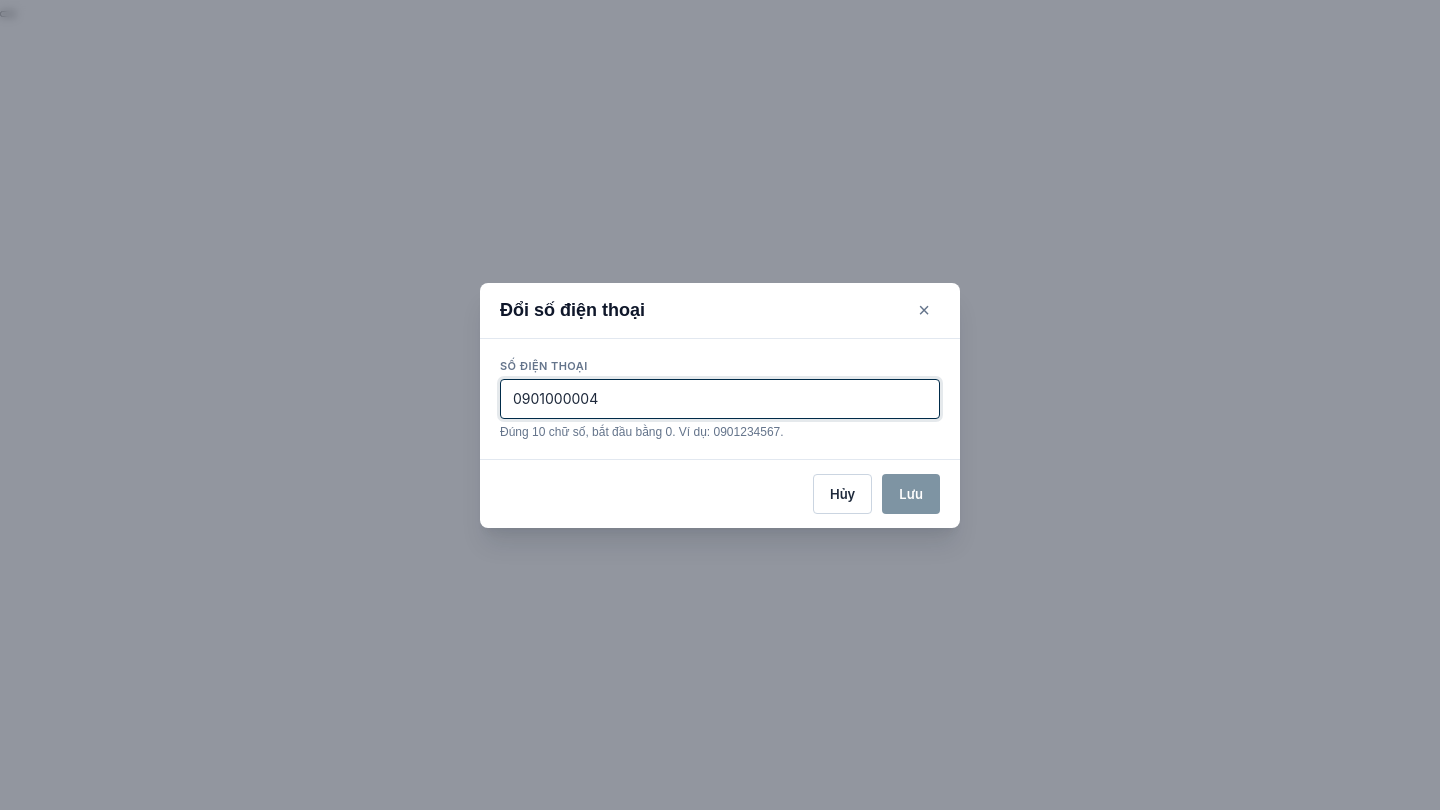
Scenario: ChangePhoneDialogComponent › keeps Save disabled until the number changed and is exactly 10 digits starting with 0
Expected: the submit button is disabled, [882, 474, 940, 514]
Replace the text in the field labelled "Số điện thoại" with "123" at (720, 398), box [500, 378, 940, 418]
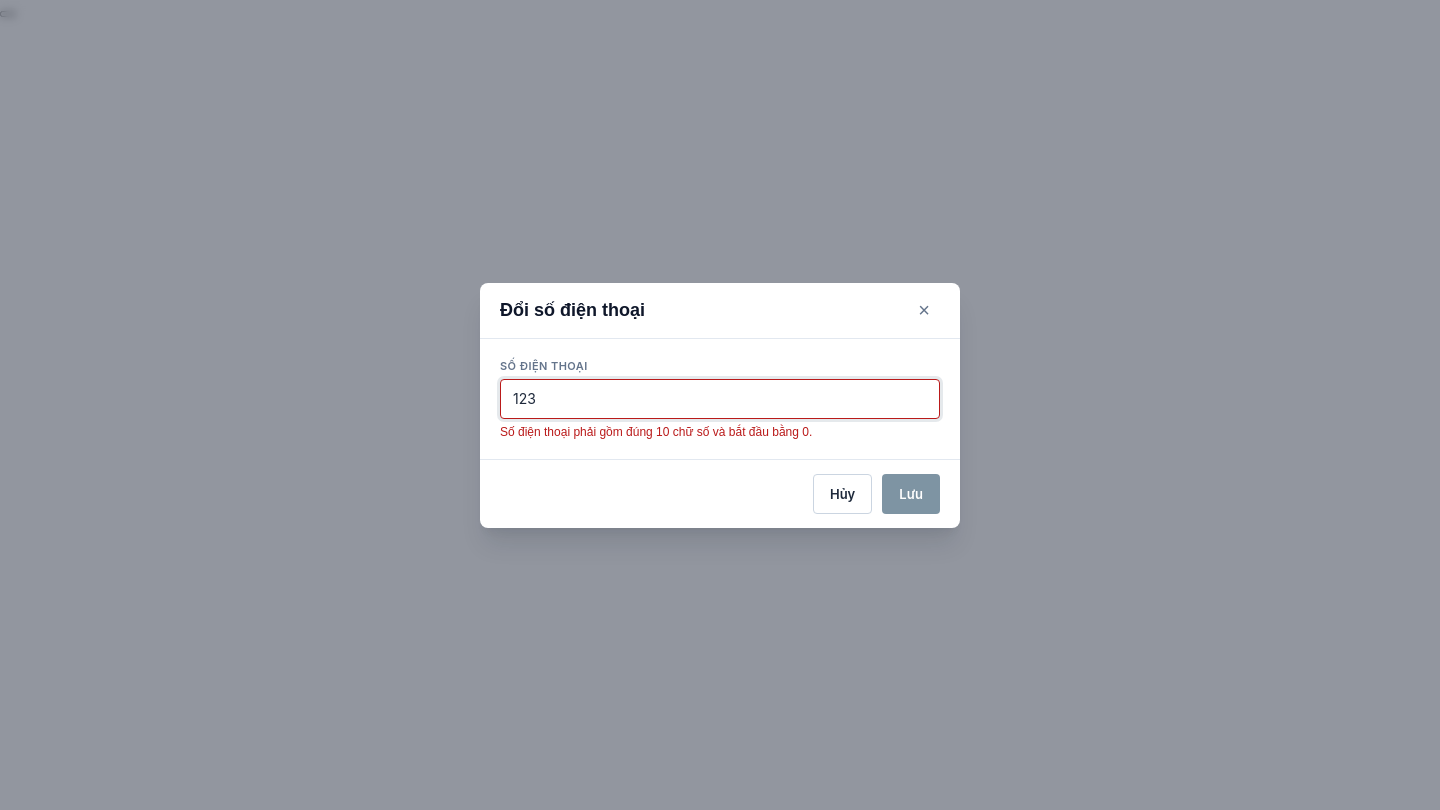
Expected: the submit button is disabled, [882, 474, 940, 514]
Now the field labelled "Số điện thoại" is marked as invalid
Replace the text in the field labelled "Số điện thoại" with "1901000999" at (720, 398), box [500, 378, 940, 418]
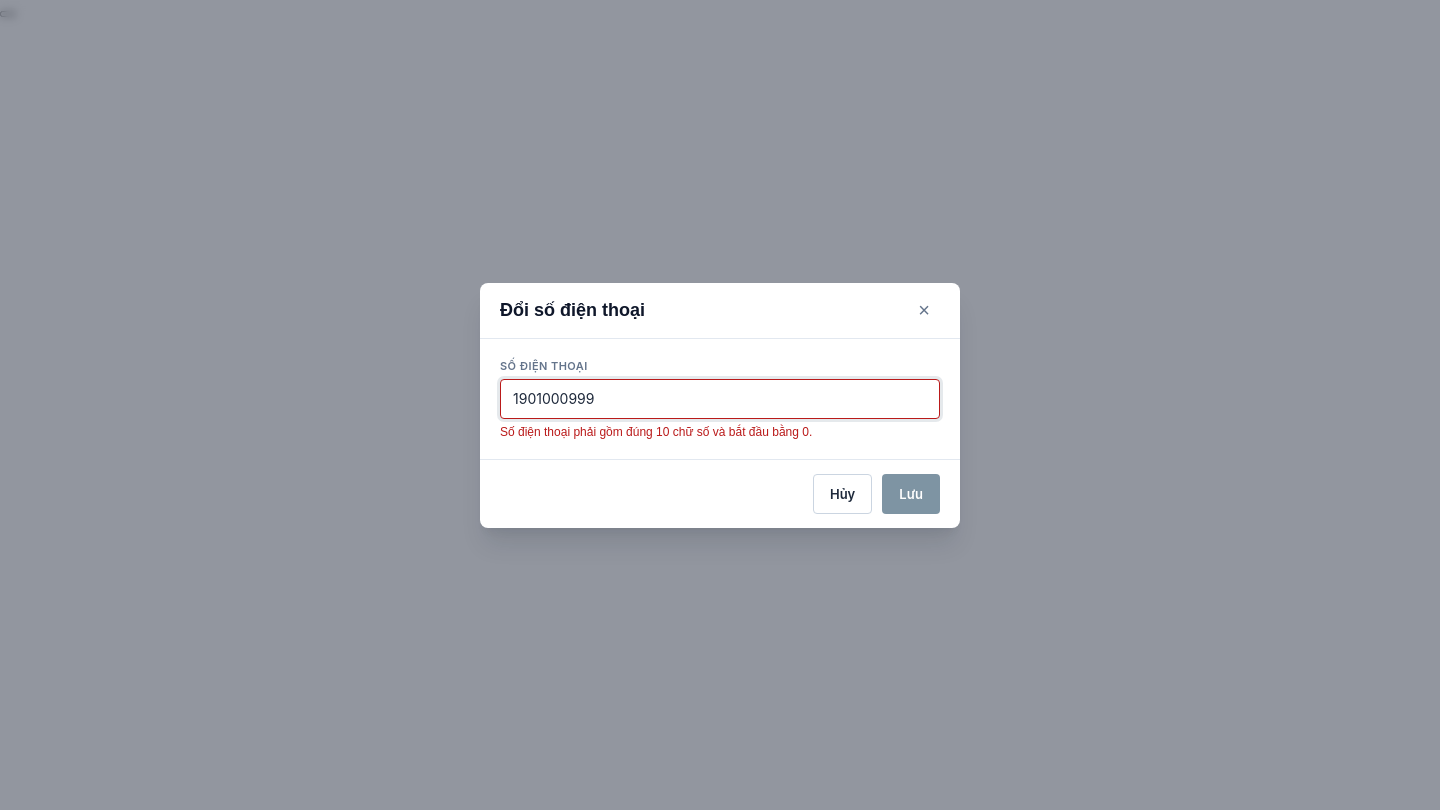
Expected: the submit button is disabled, [882, 474, 940, 514]
Now the field labelled "Số điện thoại" is marked as invalid
Replace the text in the field labelled "Số điện thoại" with "090100099" at (720, 398), box [500, 378, 940, 418]
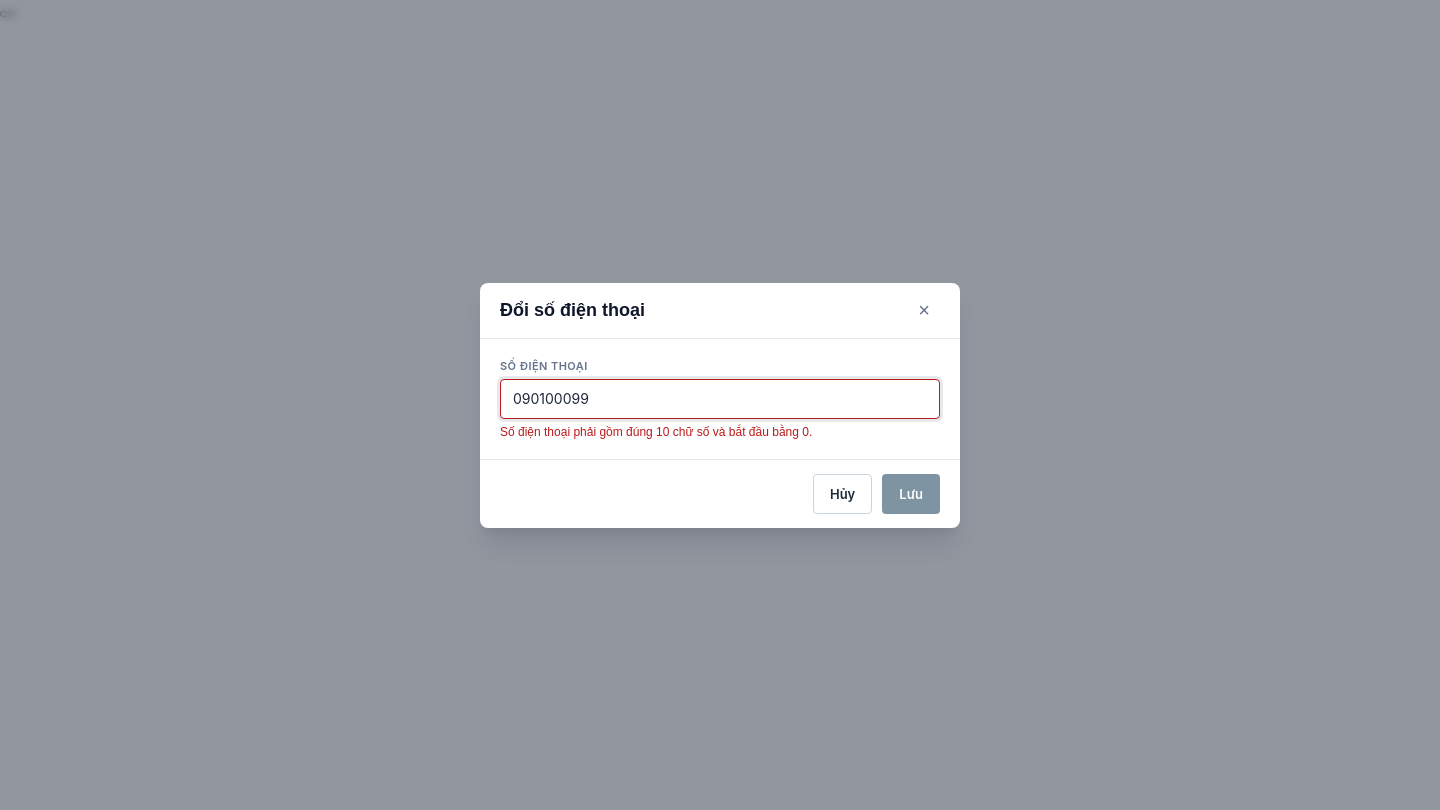
Expected: the submit button is disabled, [882, 474, 940, 514]
Now the field labelled "Số điện thoại" is marked as invalid
Replace the text in the field labelled "Số điện thoại" with "+84901000999" at (720, 398), box [500, 378, 940, 418]
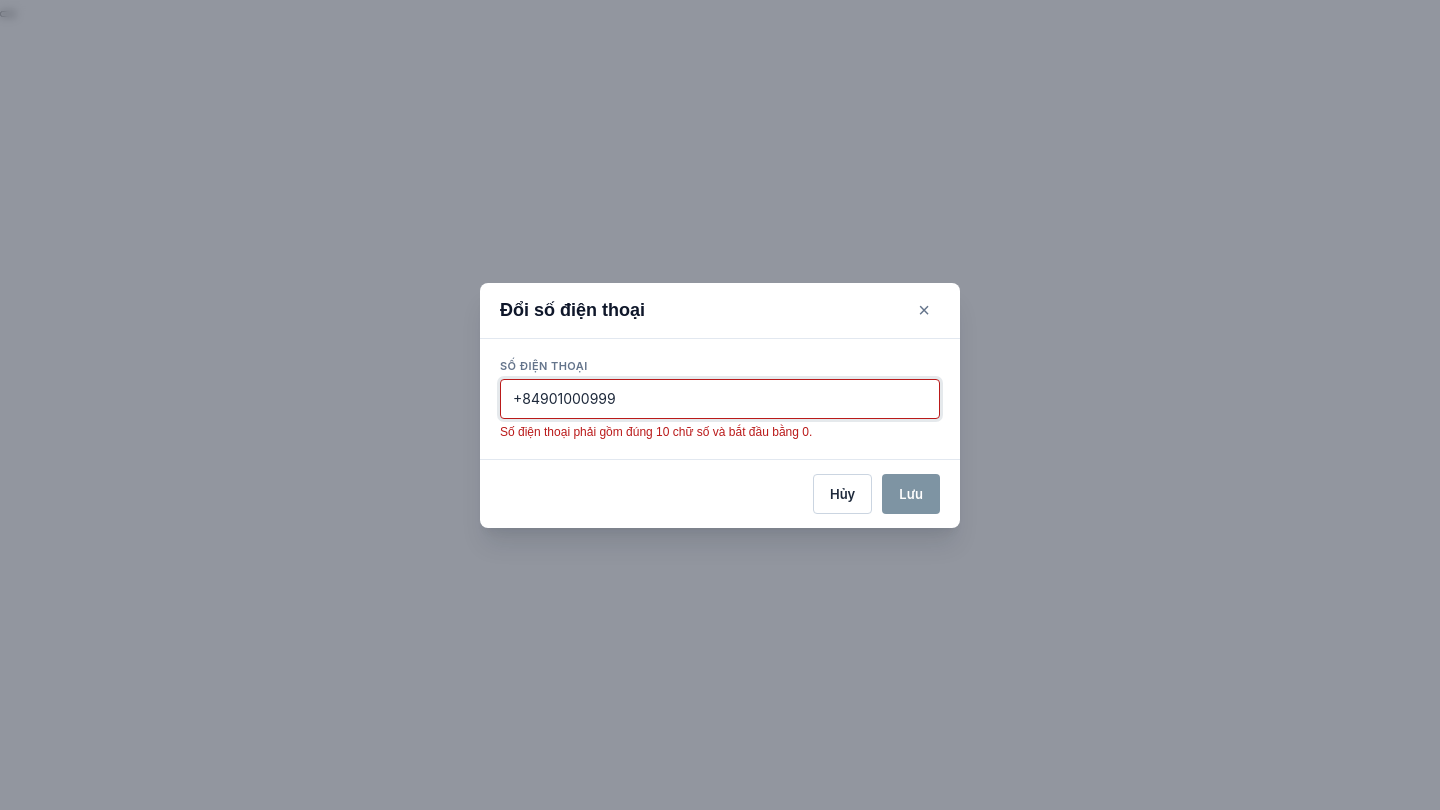
Expected: the submit button is disabled, [882, 474, 940, 514]
Now the field labelled "Số điện thoại" is marked as invalid
Replace the text in the field labelled "Số điện thoại" with "0901000999" at (720, 398), box [500, 378, 940, 418]
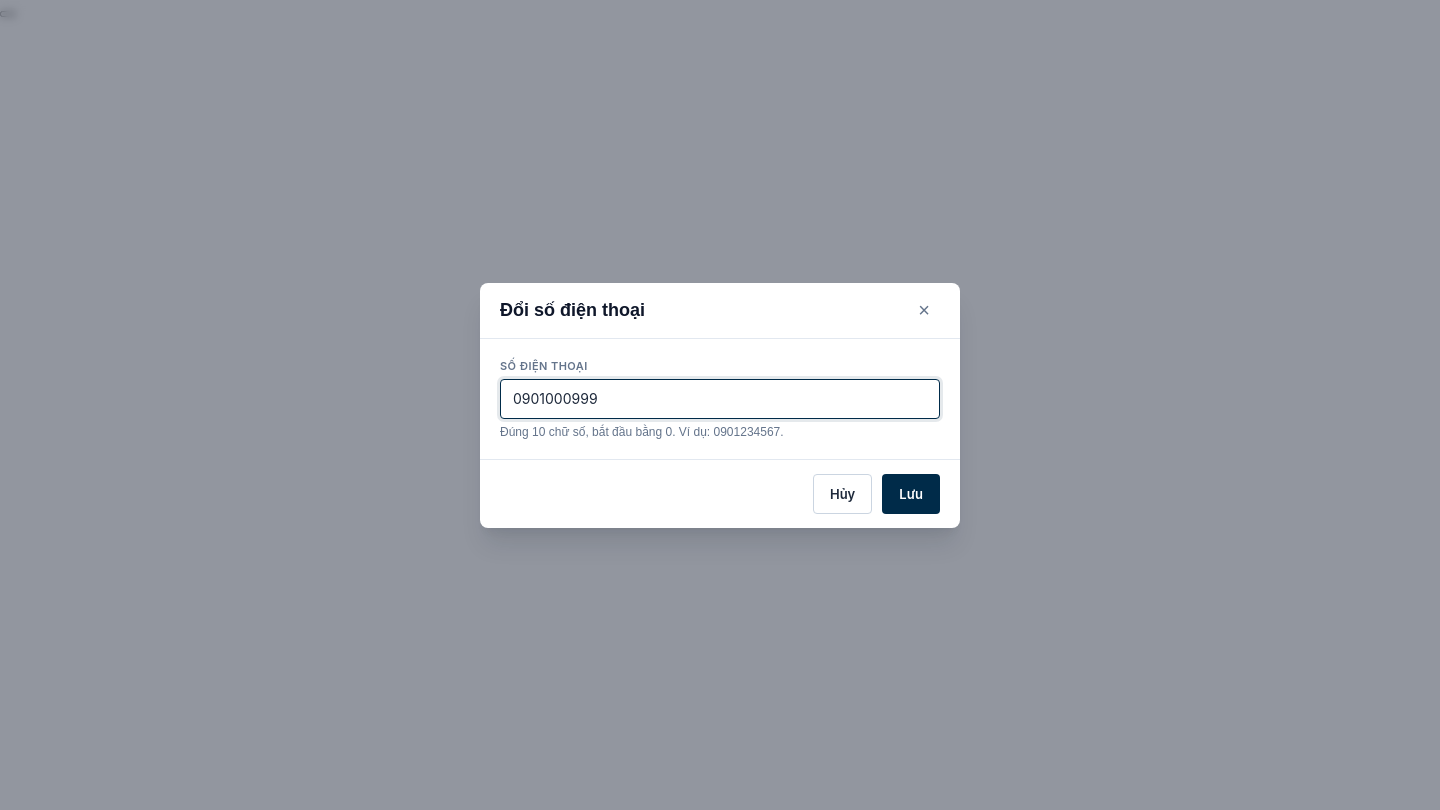
Now the submit button is enabled, box [882, 474, 940, 514]
